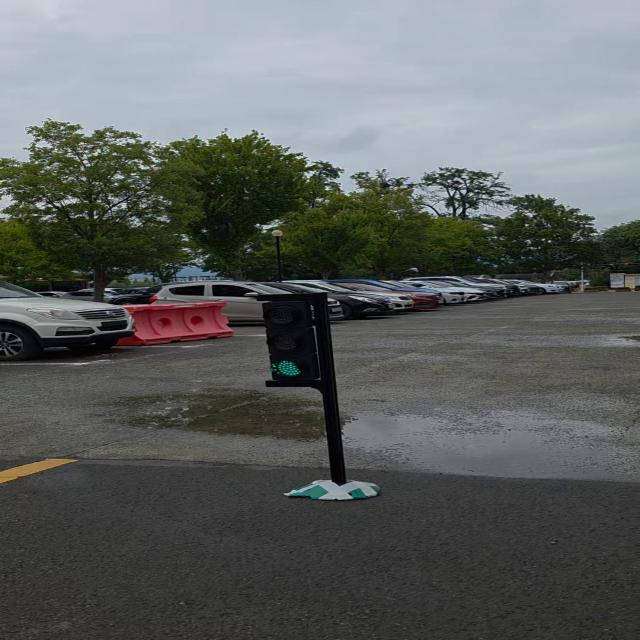green: (262, 295, 335, 389)
